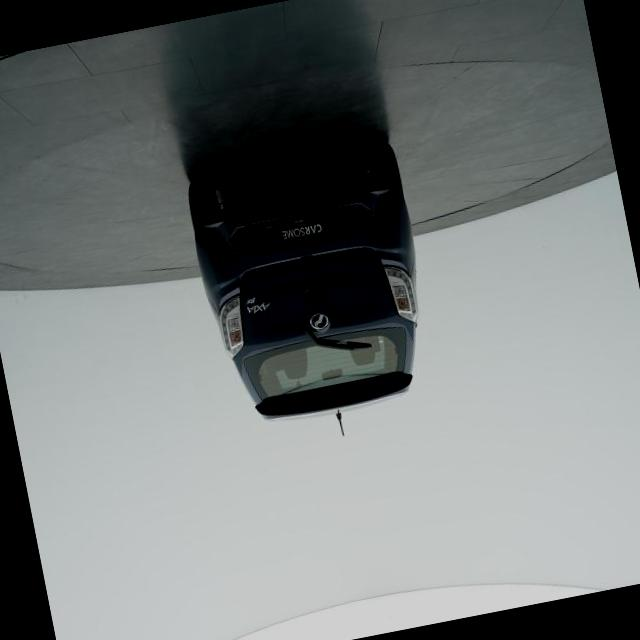PeroduaAxia: (182, 138, 450, 458)
